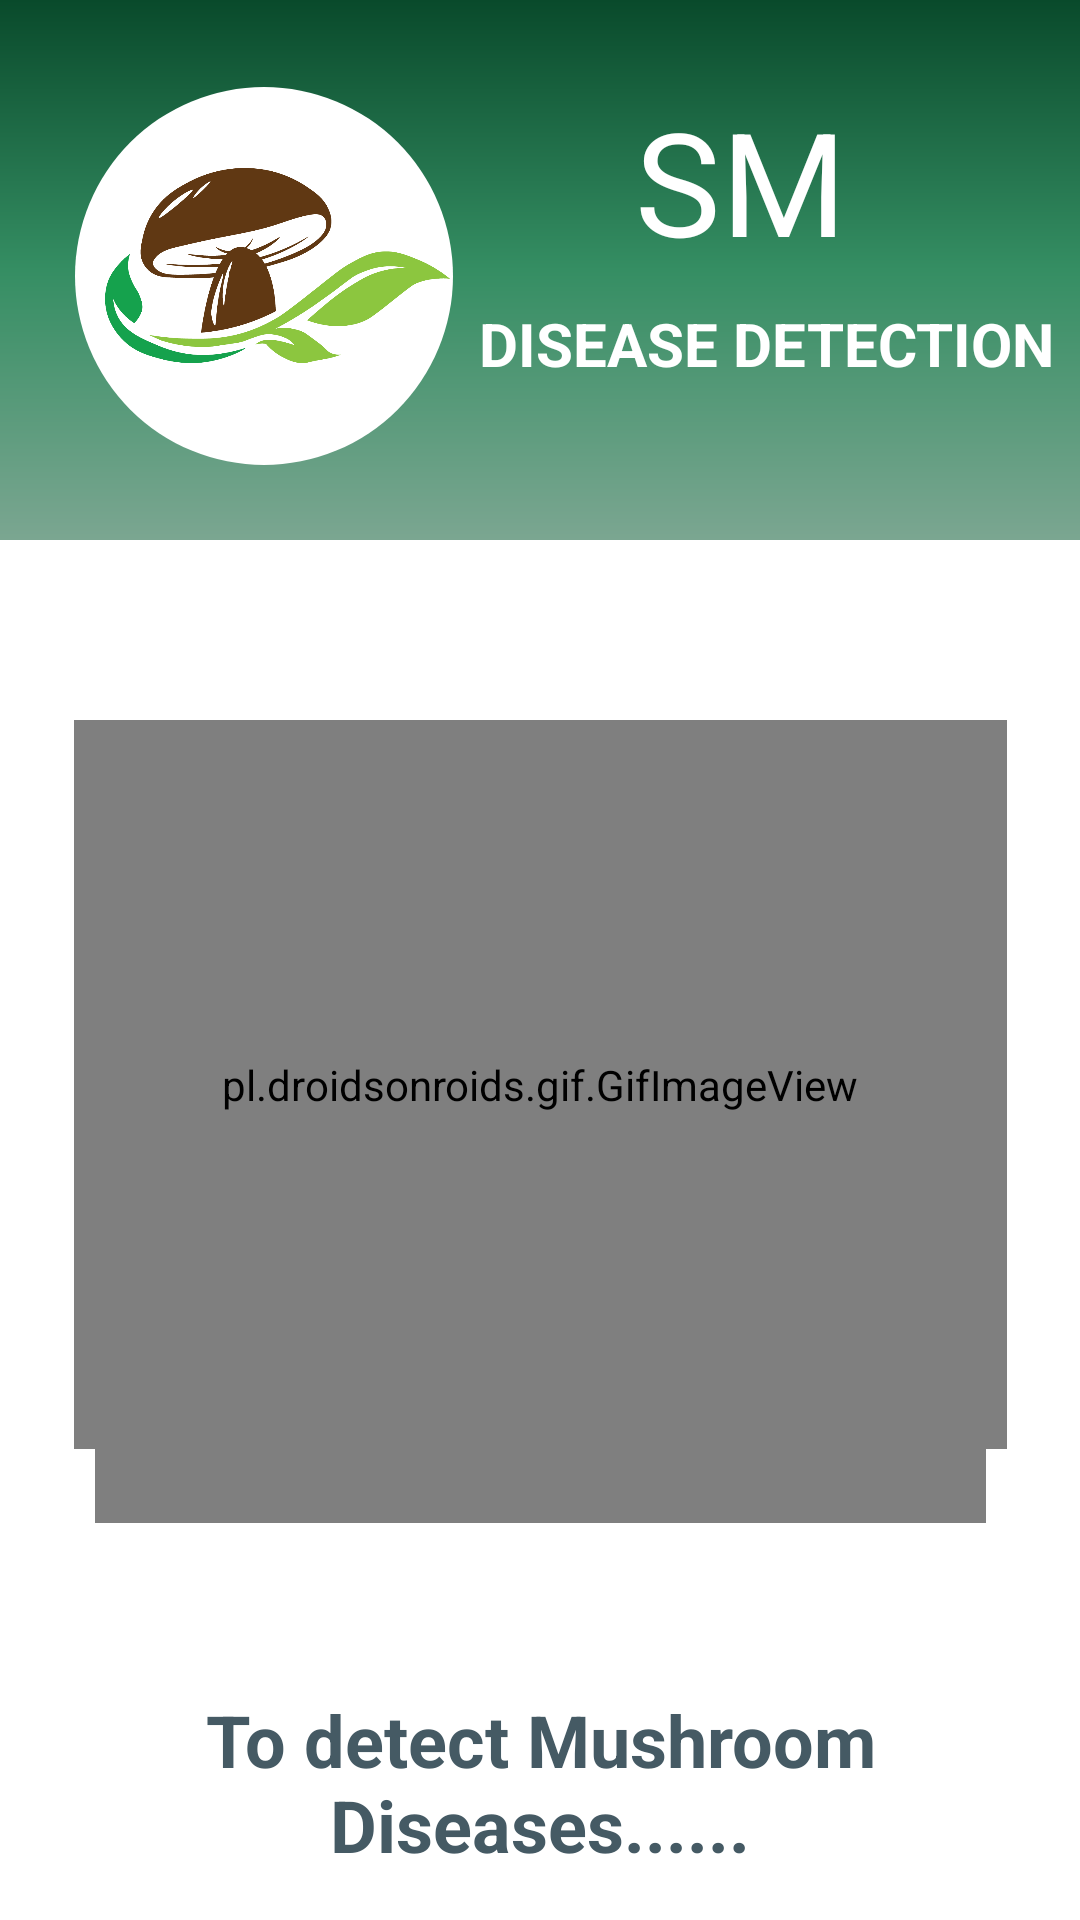

Icon click points for this 1080 x 1920 phone screenshot, format (x,y):
mashroom: (277,265)
